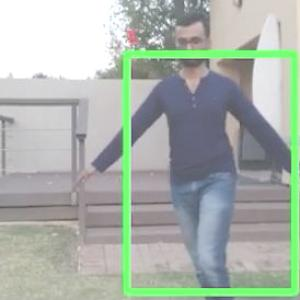land: (115, 28, 299, 296)
